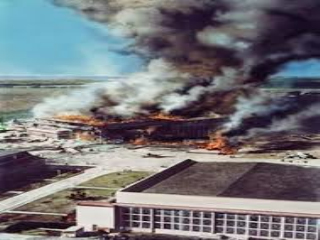fire: (51, 109, 246, 155)
smoke: (62, 1, 308, 111)
